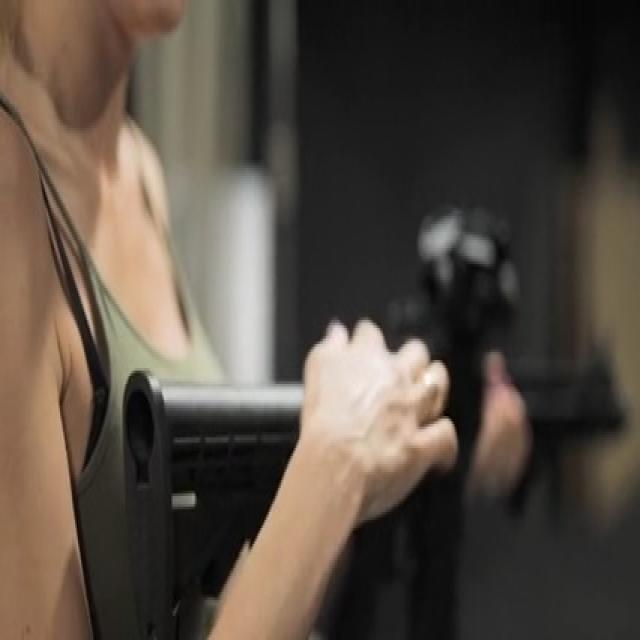Gun_Holder: (123, 181, 640, 640)
